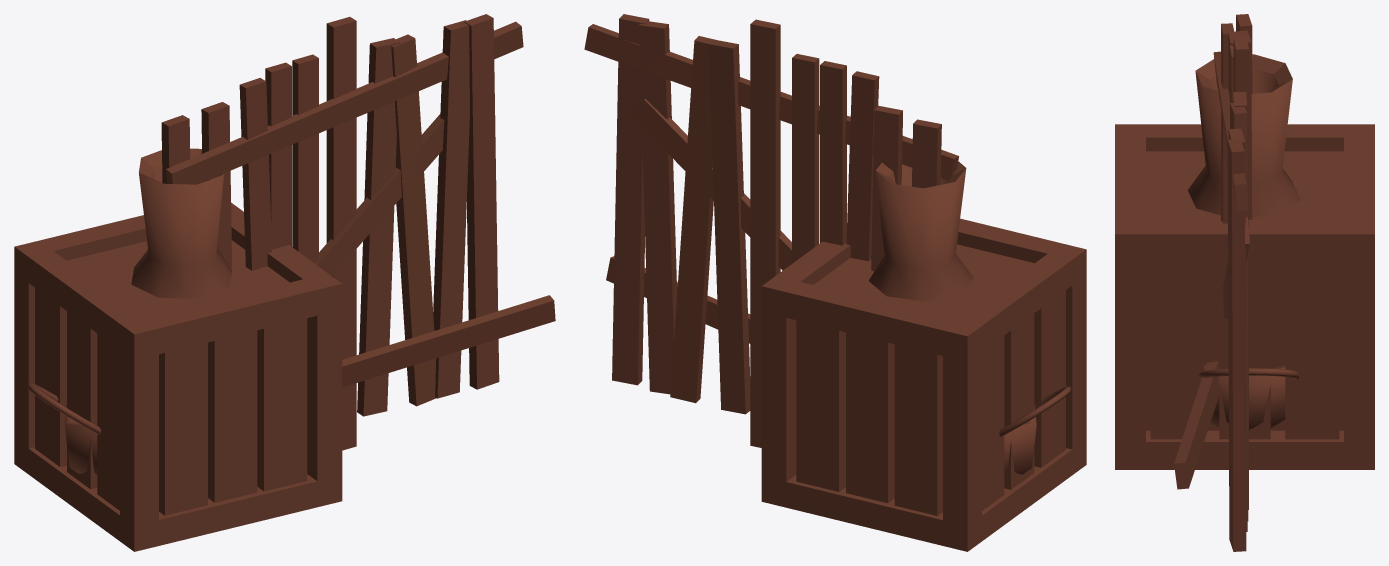
The model's file is Props_Pack1.fbx.
3 renders of one model, left to right at view 1: azimuth 30°, elevation 25°; view 2: azimuth 150°, elevation 25°; view 3: azimuth 270°, elevation 25°, orthographic. The views are drawn at different scales.
Visible parts, largest first — view 1: Box_1x1x1, WoodFence, Pot2, Basket2; view 2: Box_1x1x1, WoodFence, Pot2, Basket2; view 3: Box_1x1x1, WoodFence, Pot2, Basket2.
Boxes of the visible parts, bbox=[...] form: Box_1x1x1: bbox=[14, 202, 342, 551]; WoodFence: bbox=[161, 14, 555, 450]; Pot2: bbox=[131, 148, 232, 298]; Basket2: bbox=[26, 383, 100, 474]; Box_1x1x1: bbox=[761, 218, 1086, 551]; WoodFence: bbox=[584, 14, 958, 447]; Pot2: bbox=[868, 161, 973, 301]; Basket2: bbox=[999, 386, 1071, 475]; Box_1x1x1: bbox=[1115, 124, 1374, 469]; WoodFence: bbox=[1174, 14, 1252, 551]; Pot2: bbox=[1187, 54, 1300, 217]; Basket2: bbox=[1199, 365, 1298, 429].
Bounding box in the file's own units: 236 × 196 × 100.
